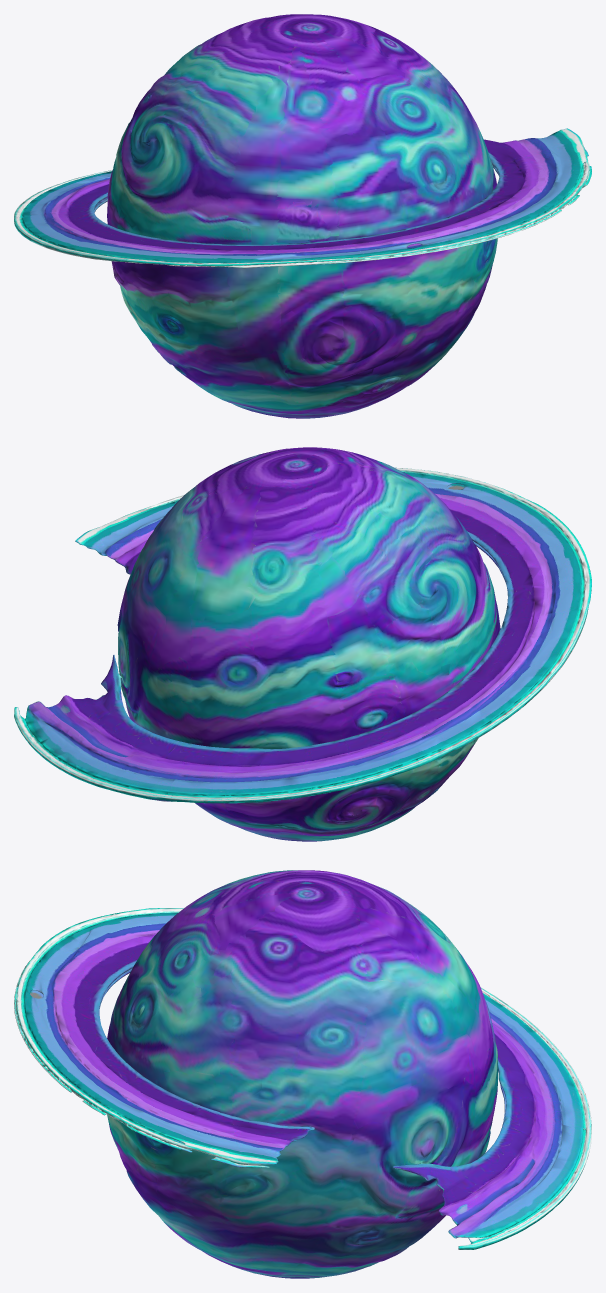
File: gas-giant.glb
3 views of the same model, one above another, from view 1: azimuth 30°, elevation 25°; view 2: azimuth 150°, elevation 25°; view 3: azimuth 270°, elevation 25° (orthographic). The views are drawn at different scales.
Size of the model in its own units: 1.9 by 1.33 by 1.87.
1 material, 1 textured.
